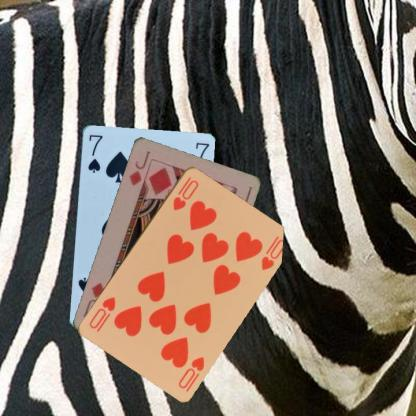10h: (170, 174, 200, 212), (176, 353, 206, 389)
7s: (85, 132, 104, 174)
Jd: (126, 147, 152, 187)
